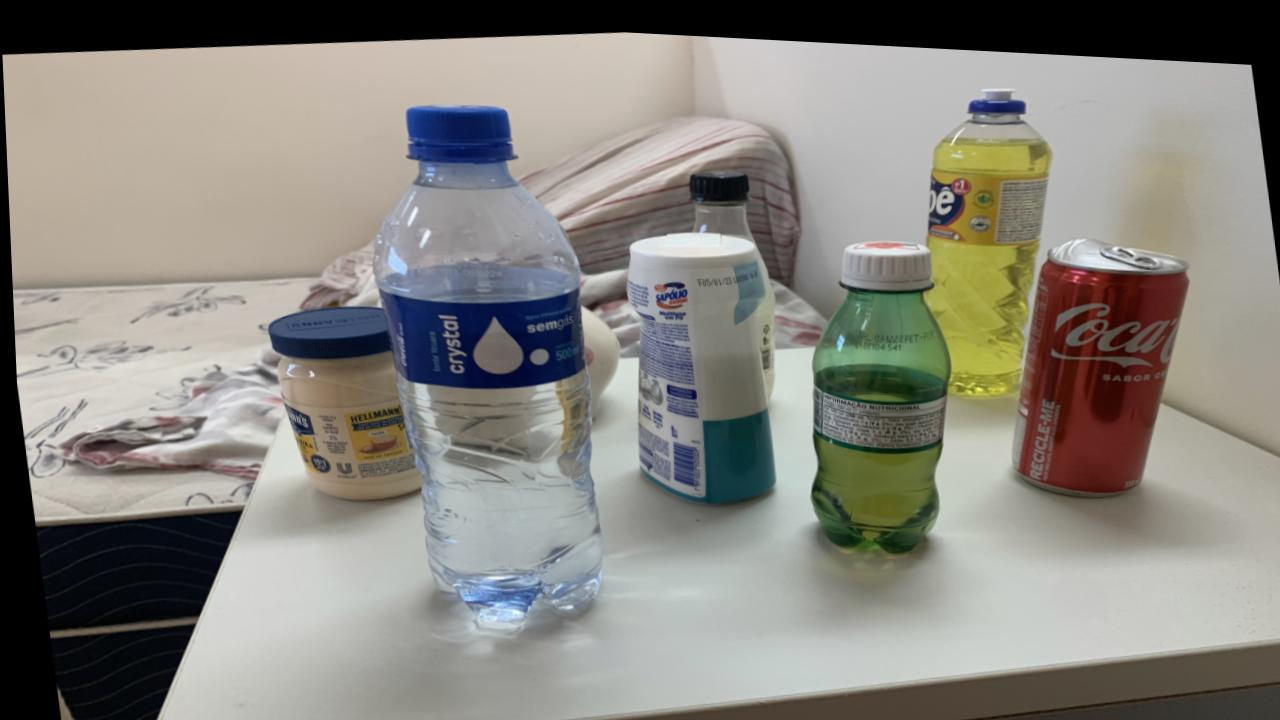Cleaner-Cleanup_Items: (624, 225, 771, 495)
Coke-Drinks: (1008, 226, 1187, 485)
Detergent-Cleanup_Items: (923, 77, 1051, 386)
Guarana-Drinks: (807, 231, 947, 543)
Mayonnaise-Pantry_Items: (265, 303, 417, 496)
Pig_Safe-Miscellaneous: (578, 301, 618, 410)
Soda-Drinks: (687, 162, 751, 234), (760, 343, 769, 386)
Water_Bottle-Drinks: (370, 102, 598, 622)
